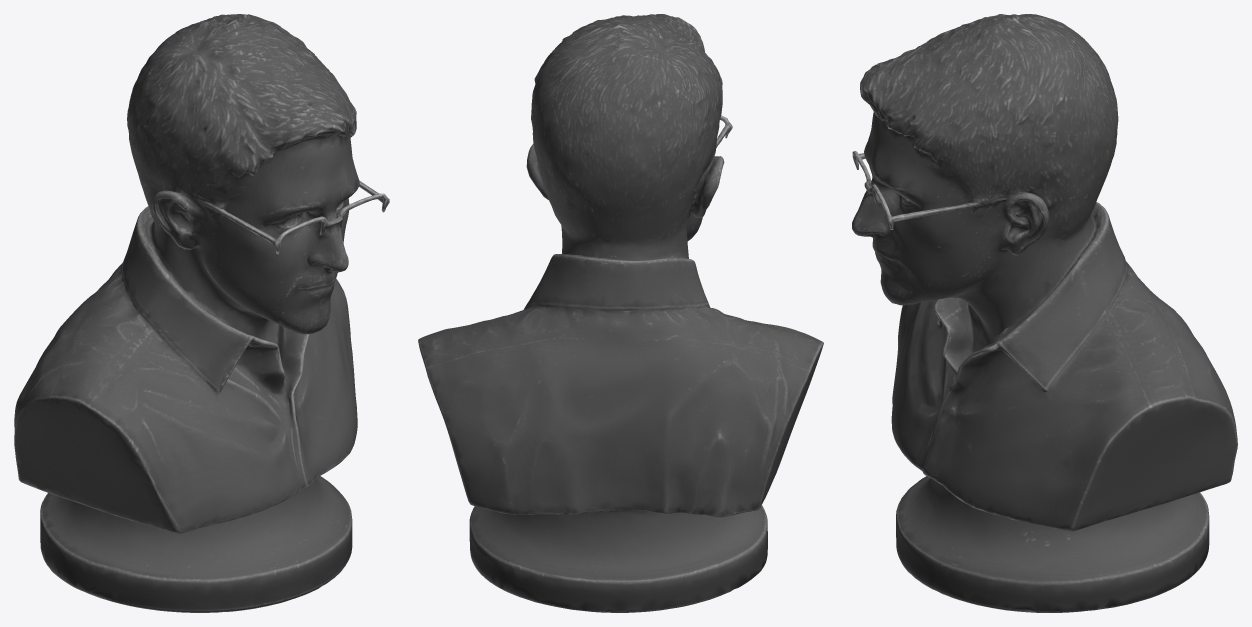
Rendered from statue_of_edward_snowden.glb.
The picture shows the model from 3 angles, left to right: view 1: azimuth 30°, elevation 25°; view 2: azimuth 150°, elevation 25°; view 3: azimuth 270°, elevation 25°; orthographic projection. The views are drawn at different scales.
Visible parts, largest first — view 1: Object_3; view 2: Object_3; view 3: Object_3.
Part boxes in pixels (left/top/right/bottom): Object_3: left=14, top=14, right=389, bottom=612; Object_3: left=418, top=14, right=823, bottom=612; Object_3: left=852, top=14, right=1237, bottom=612.
Size of the model in its own units: 5.51 by 7.99 by 5.2.
Materials: 1 (1 with a texture image).
